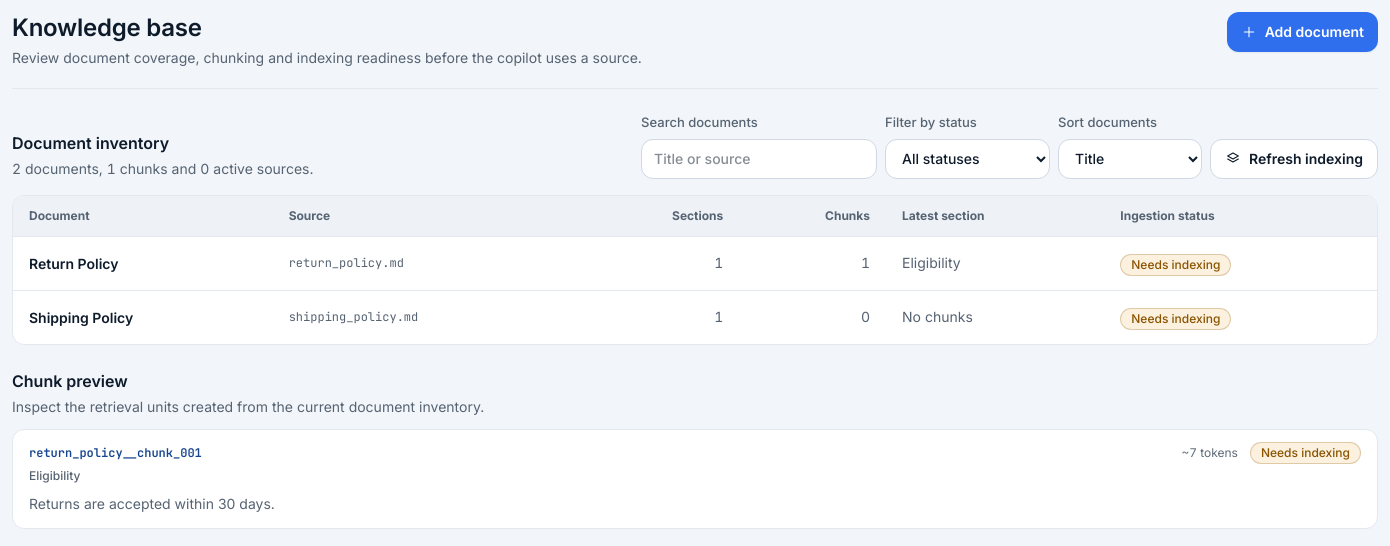
Test case: KnowledgeWorkspace › shows processing while a local indexing action starts with zero embeddings
Click the button "Refresh indexing": (1294, 158) [1210, 138, 1378, 178]
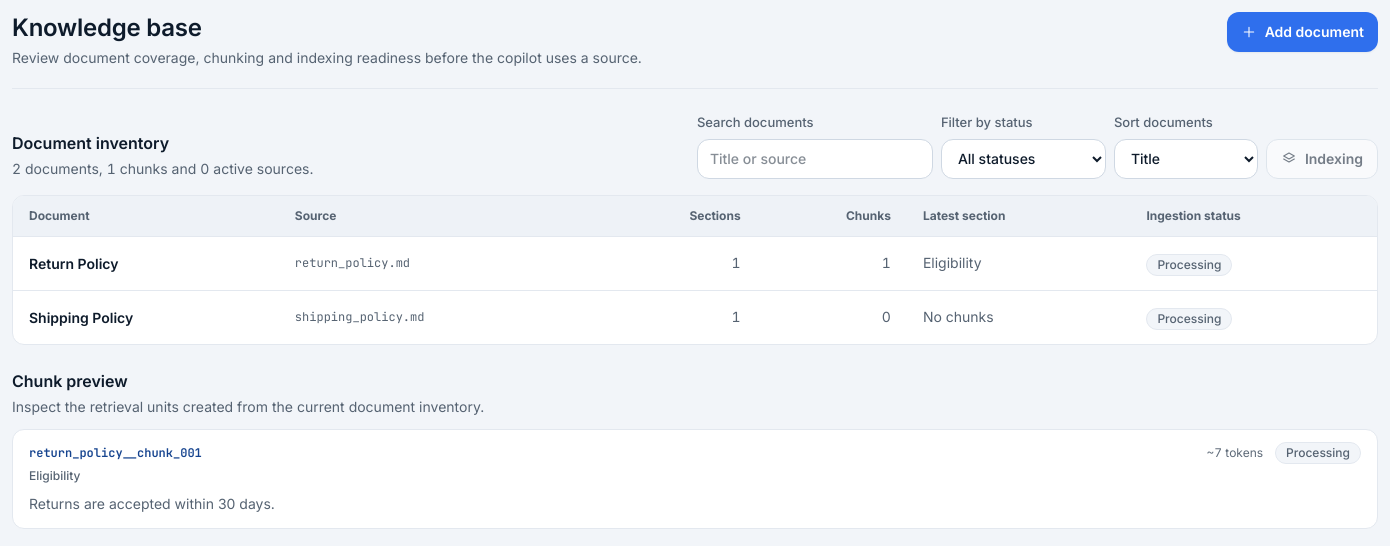
Expected: the text "return_policy__chunk_001" is shown, [29, 444, 202, 460]
Expected: the row "Return Policy return_policy.md 1 1 Eligibility Processing" is shown, [13, 236, 1377, 290]
Expected: the text "Processing" next to "tokens" is shown, [1286, 444, 1350, 460]
